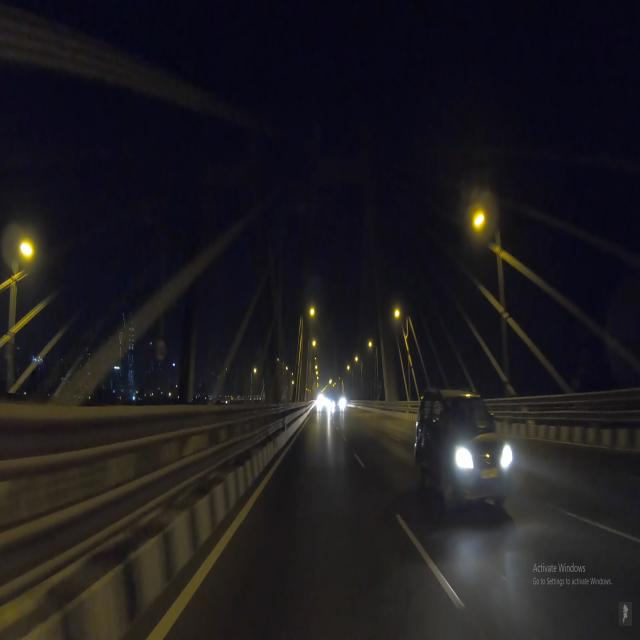headlights: (449, 431, 523, 486)
